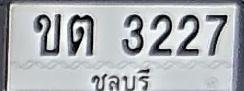2: (149, 13, 172, 55), (176, 14, 199, 55)
3: (122, 13, 144, 55)
7: (206, 13, 228, 56)
A02: (34, 13, 61, 56)
A21: (68, 13, 94, 56)
CBI: (88, 67, 152, 91)
